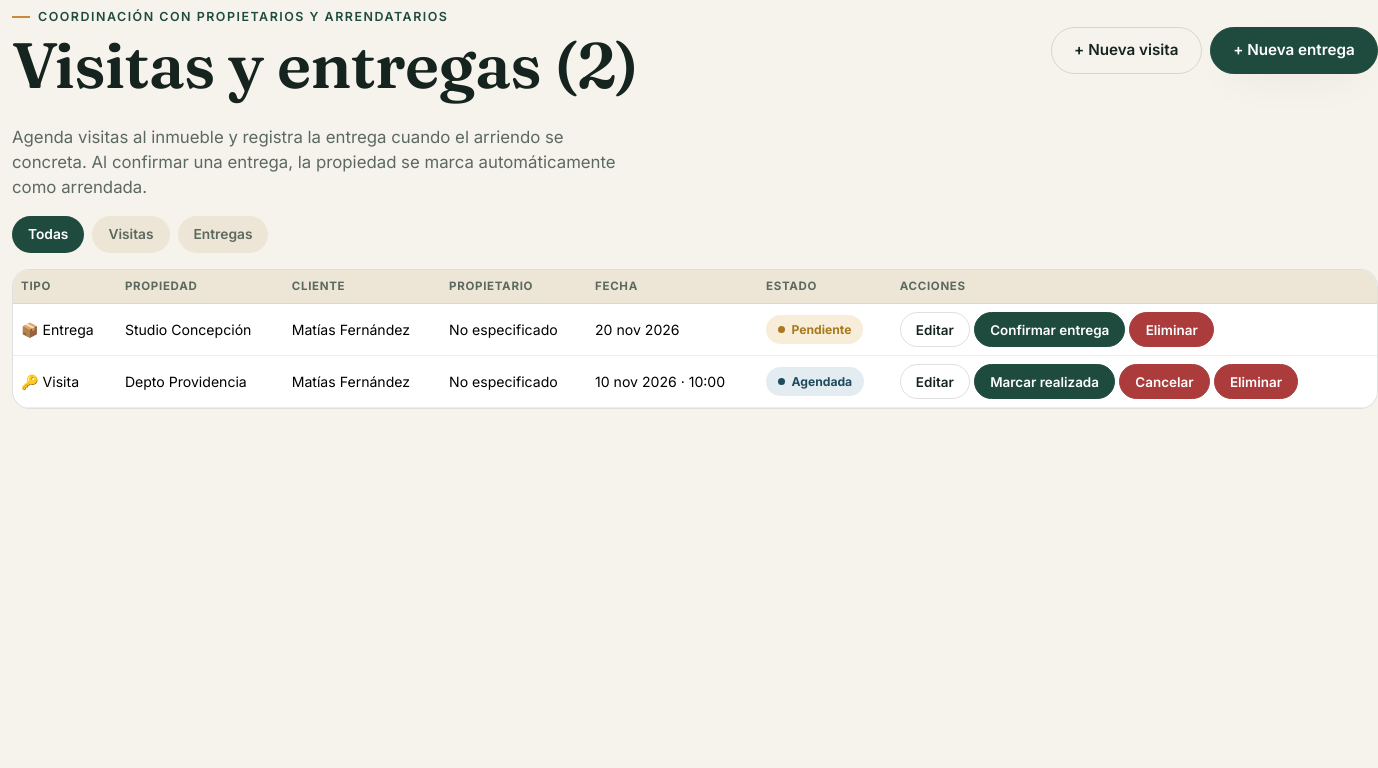
Test case: Visitas y entregas › marca una visita agendada como realizada
Step 1. Click the button "Marcar realizada" → (1045, 382), box left=974, top=364, right=1115, bottom=399
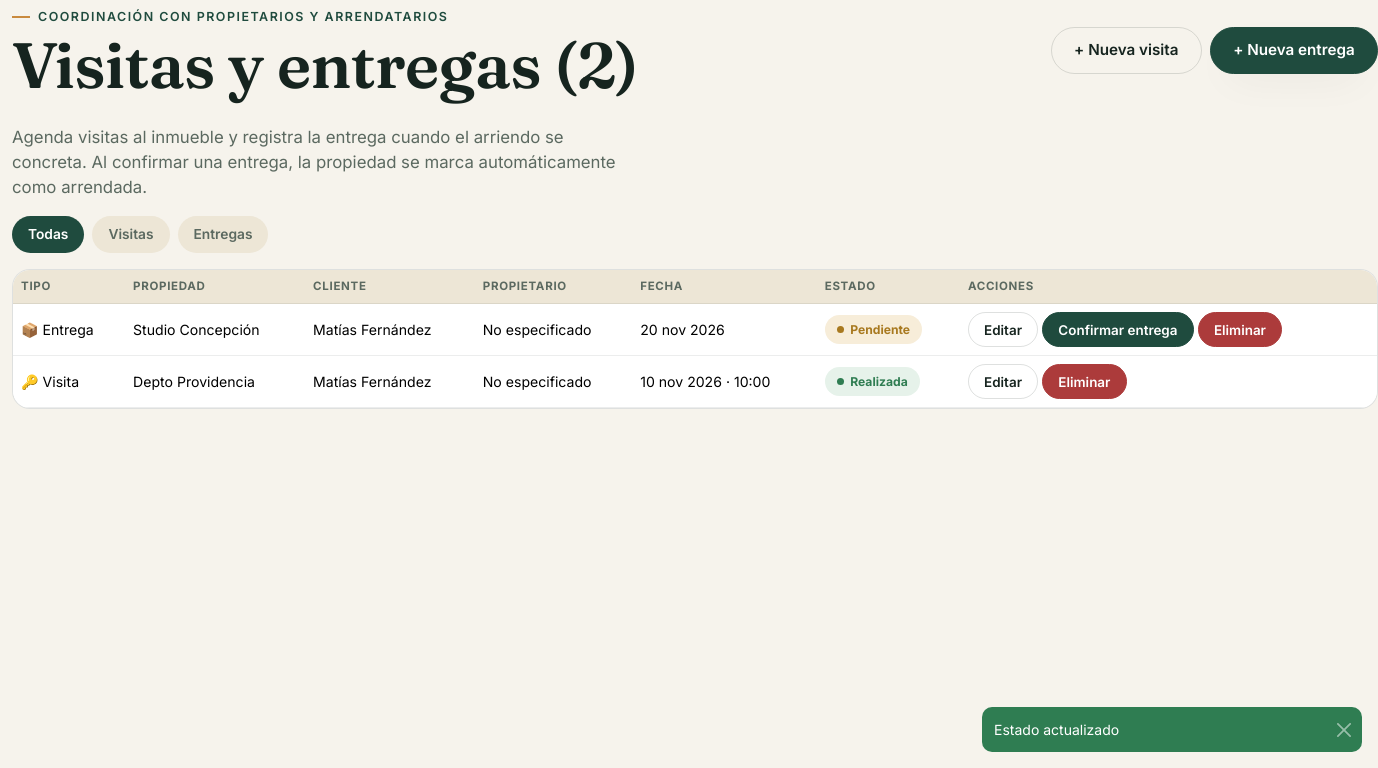
Now the text "Realizada" is shown, box left=825, top=367, right=920, bottom=396
